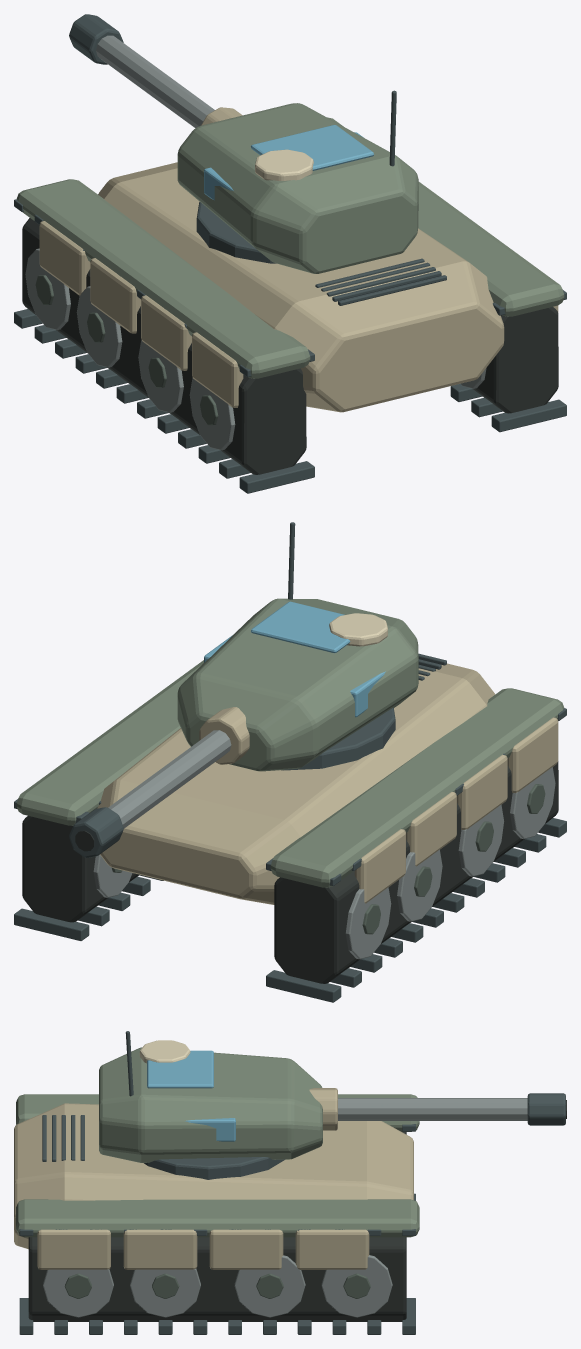
Rendered from tank.glb.
The picture shows the model from 3 angles, top to bottom: view 1: azimuth 30°, elevation 25°; view 2: azimuth 150°, elevation 25°; view 3: azimuth 270°, elevation 25°; orthographic projection. The views are drawn at different scales.
Parts seen in each view (by area): view 1: body; view 2: body; view 3: body.
Boxes of the visible parts, x1,y1,x2,y2 form: body: [14, 14, 566, 493]; body: [14, 522, 566, 1002]; body: [14, 1031, 566, 1334].
Size of the model in its own units: 3.38 by 2.98 by 5.78.
